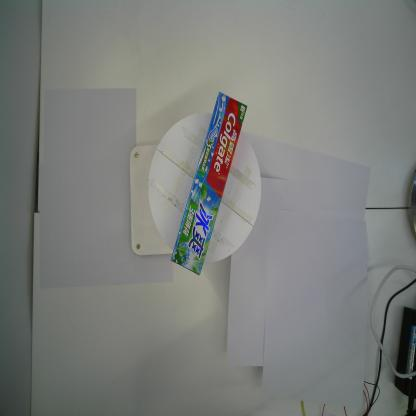Personal Hygiene: (170, 92, 248, 276)
